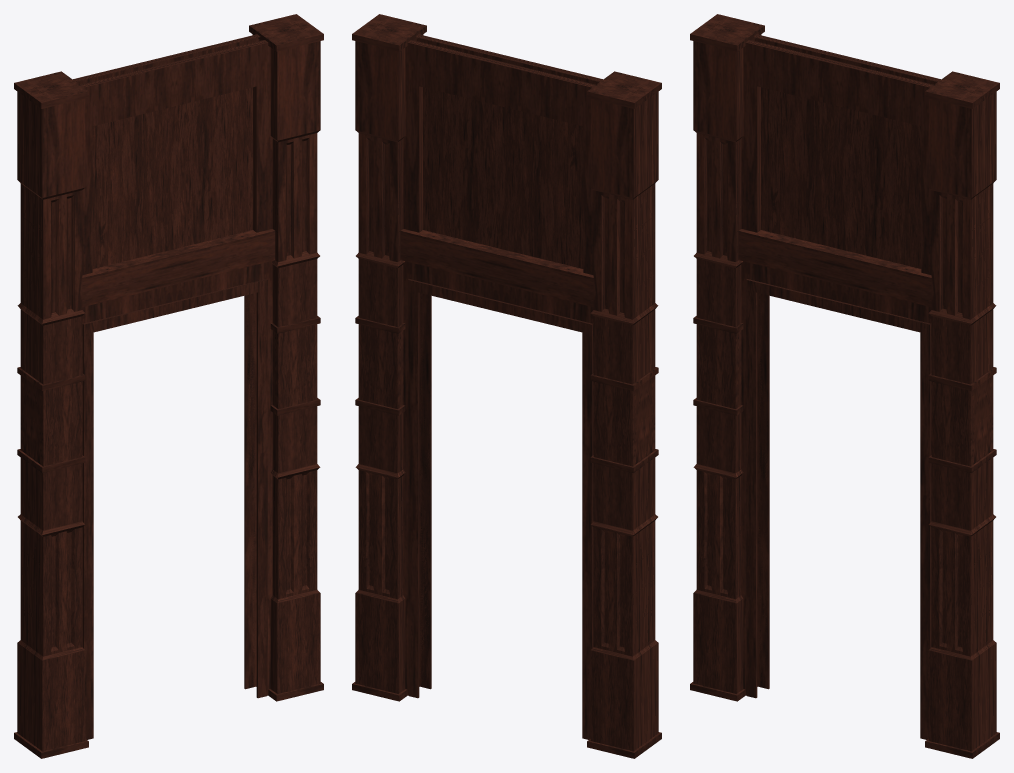
File: DoorFrame.gltf
3 renders of one model, left to right at view 1: azimuth 30°, elevation 25°; view 2: azimuth 150°, elevation 25°; view 3: azimuth 330°, elevation 25°, orthographic.
Visible parts, largest first — view 1: Cube.010; view 2: Cube.010; view 3: Cube.010.
Part boxes in pixels (x1,y1,x2,y2): Cube.010: [14, 14, 323, 758]; Cube.010: [352, 14, 661, 758]; Cube.010: [690, 14, 999, 758].
Size of the model in its own units: 1.44 by 3.2 by 0.242.
Materials: 1 (1 with a texture image).
